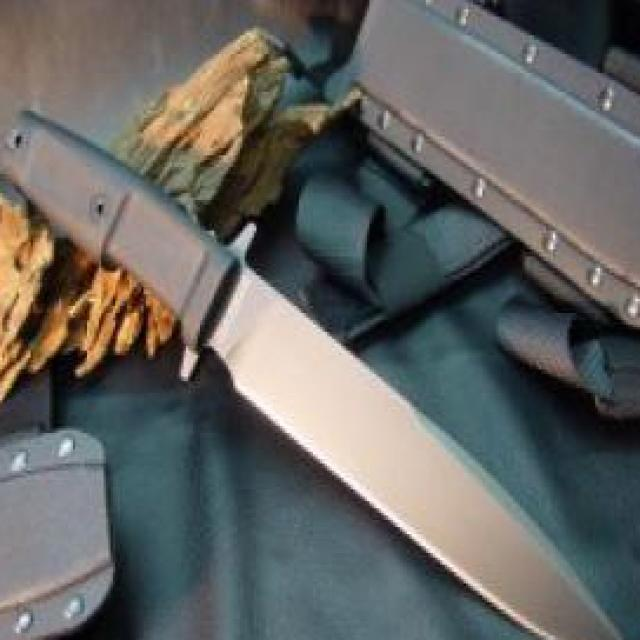knife: (214, 273, 640, 640)
